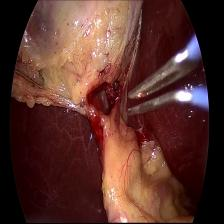Bipolar: (122, 32, 210, 129)
